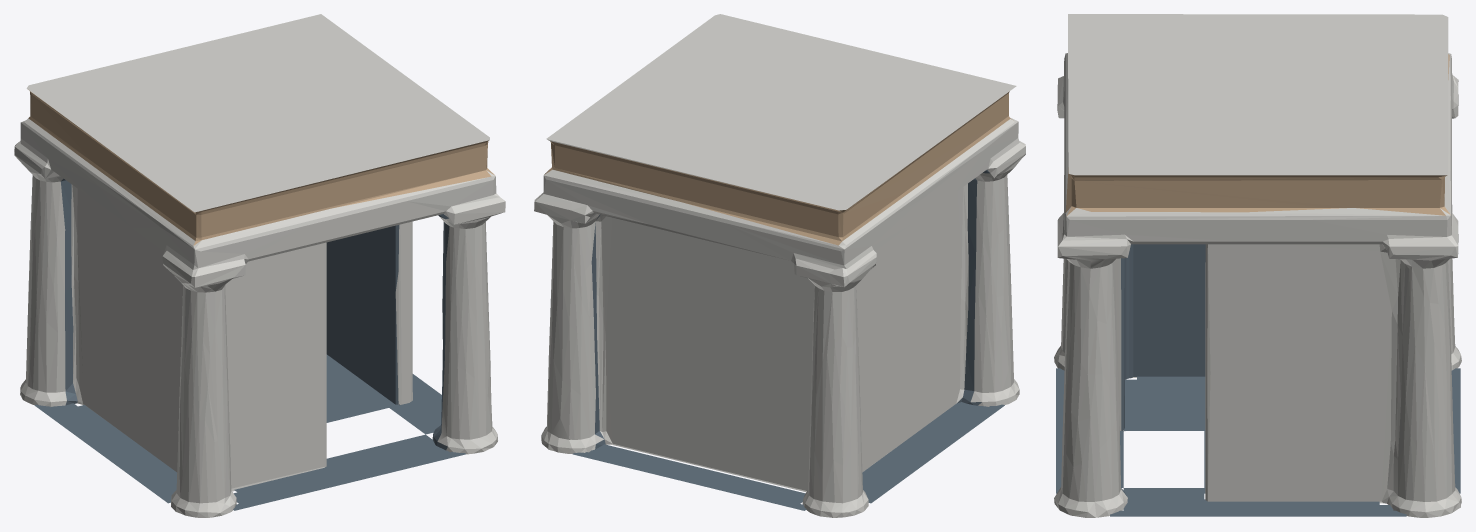
The model's file is etape-1.glb.
The picture shows the model from 3 angles, left to right: view 1: azimuth 30°, elevation 25°; view 2: azimuth 150°, elevation 25°; view 3: azimuth 270°, elevation 25°; orthographic projection. The views are drawn at different scales.
Parts seen in each view (by area): view 1: geometry_0; view 2: geometry_0; view 3: geometry_0.
Part boxes in pixels (bbox=[...]): geometry_0: bbox=[14, 14, 505, 517]; geometry_0: bbox=[534, 14, 1025, 517]; geometry_0: bbox=[1054, 14, 1461, 517].
Size of the model in its own units: 0.8107 by 0.7392 by 0.8115.
